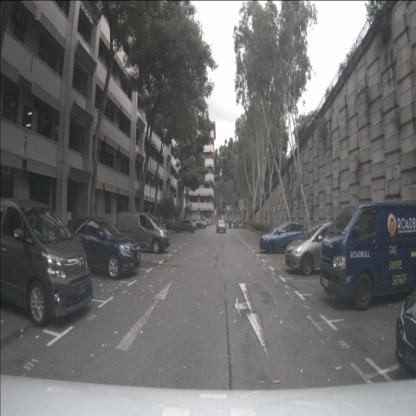vehicle-car: (0, 198, 93, 327), (320, 203, 416, 311), (64, 216, 141, 279), (284, 221, 359, 276), (115, 212, 169, 254), (260, 221, 306, 255), (173, 219, 197, 234), (190, 218, 206, 229), (217, 220, 226, 233), (197, 218, 207, 227)
